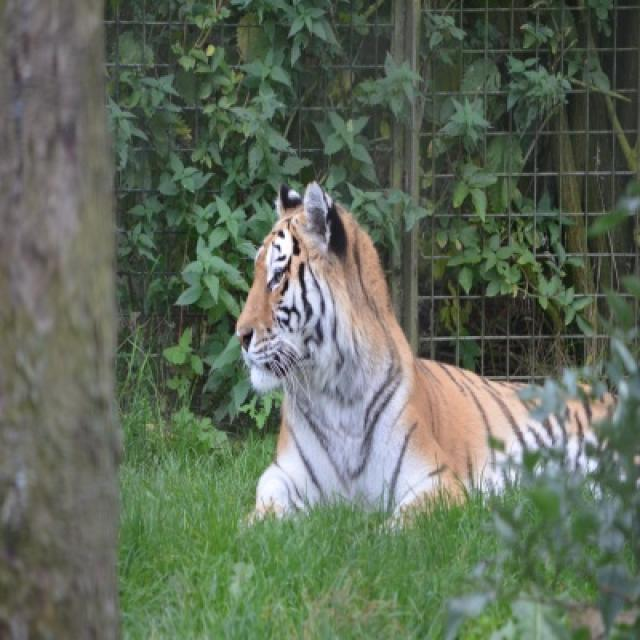Tiger: (224, 178, 609, 525)
